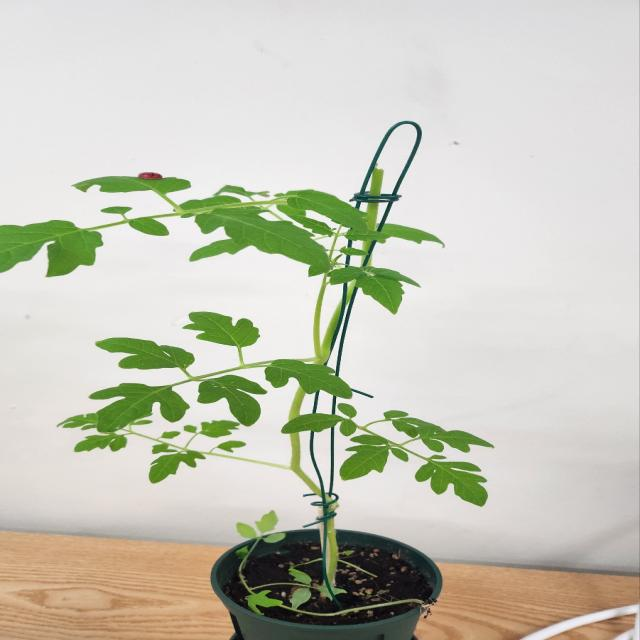bug: (133, 167, 176, 192)
